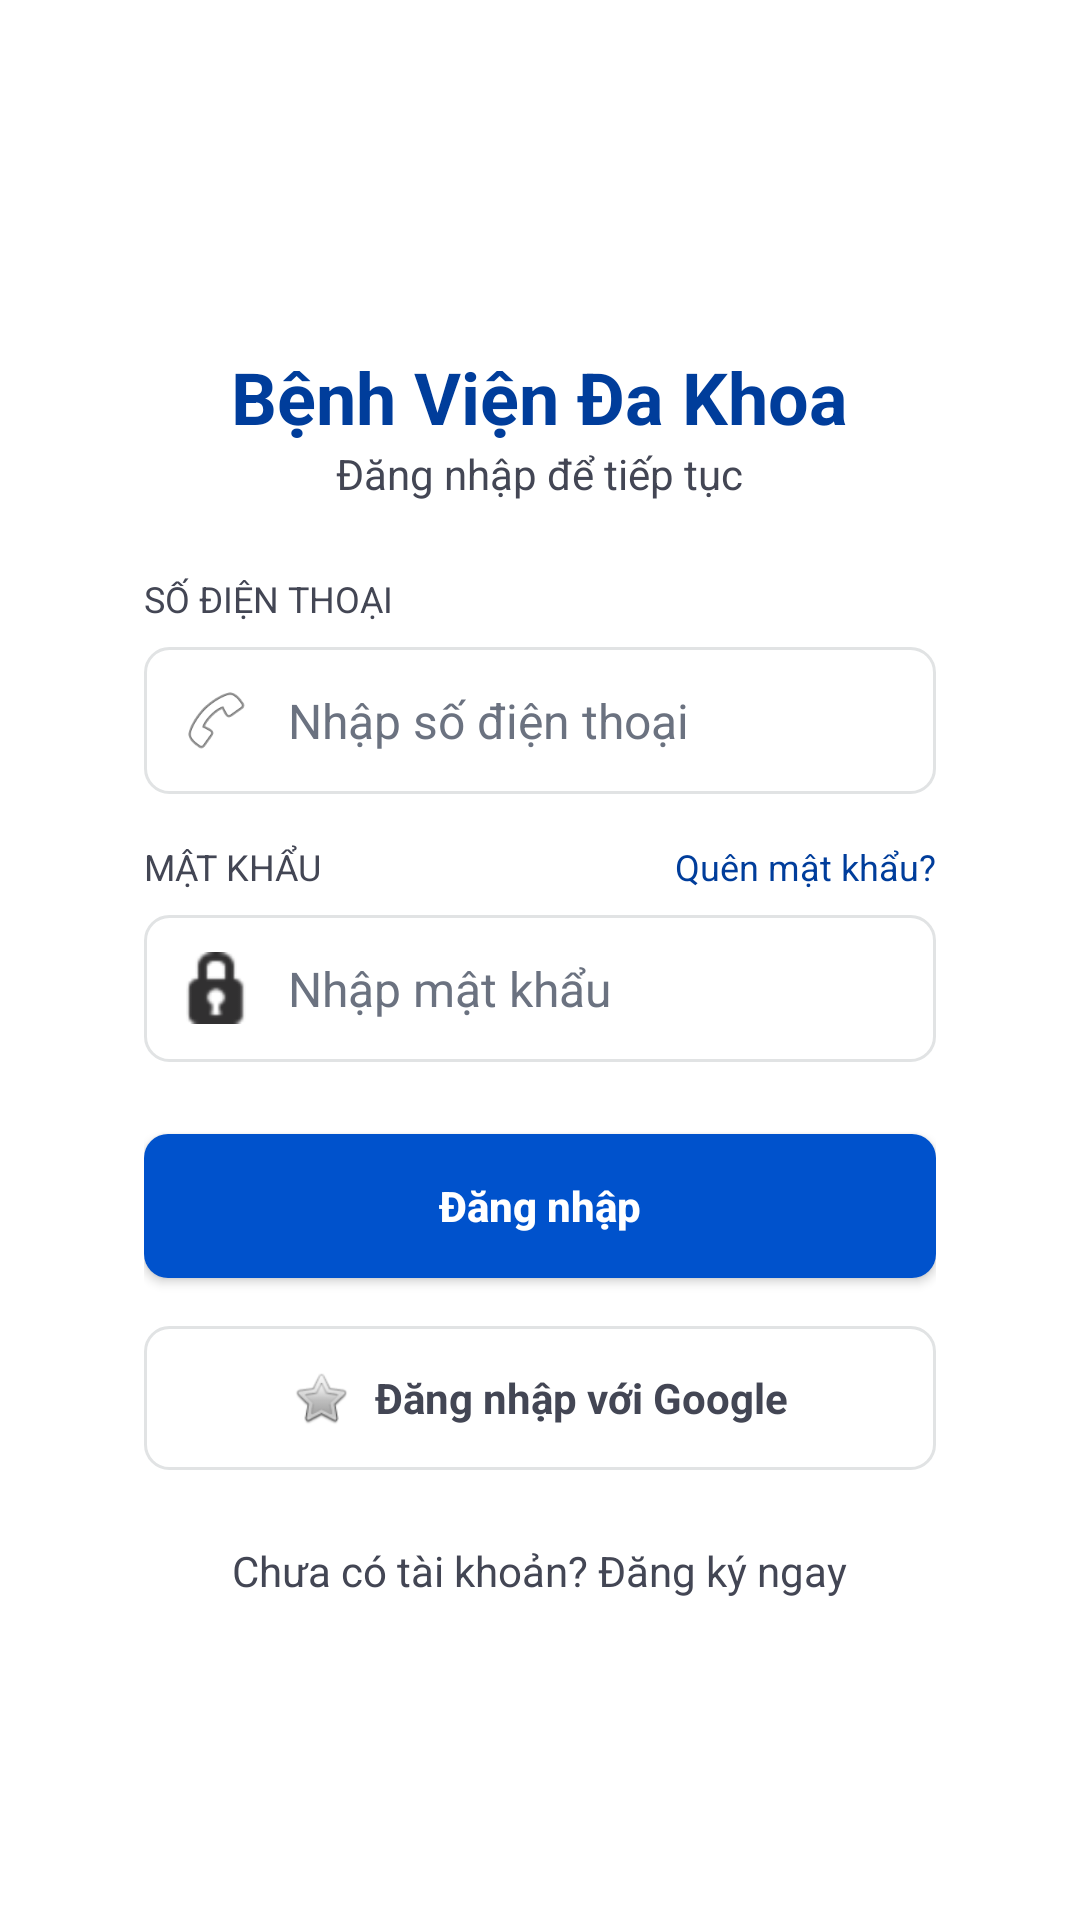

Icon bounding boxes for this 1080px x 1920px phone screenshot, format (x1, y1, x2, y2):
call: (188, 692, 245, 749)
secure: (187, 952, 244, 1024)
star: (296, 1374, 347, 1423)
